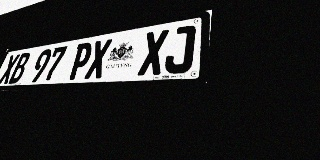7: (42, 46, 68, 82)
9: (28, 48, 53, 82)
B: (8, 52, 32, 84)
J: (163, 24, 196, 74)
P: (67, 41, 94, 80)
X: (137, 29, 169, 76), (84, 38, 113, 79), (0, 54, 20, 84)
